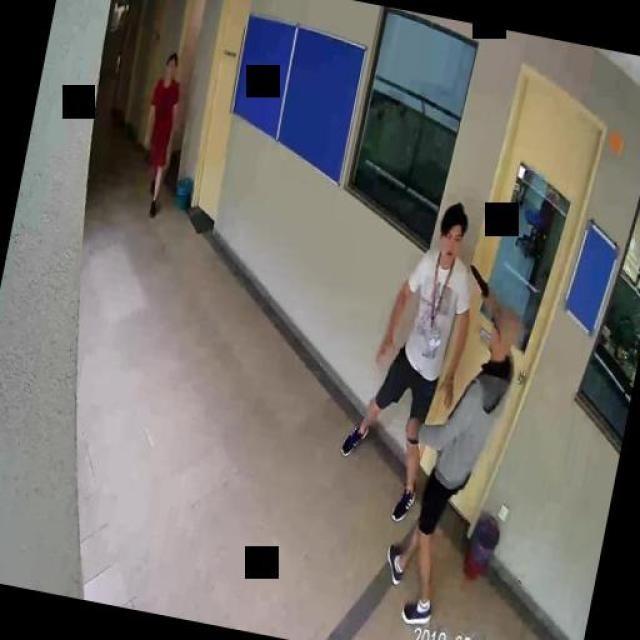gun: (464, 262, 496, 302)
